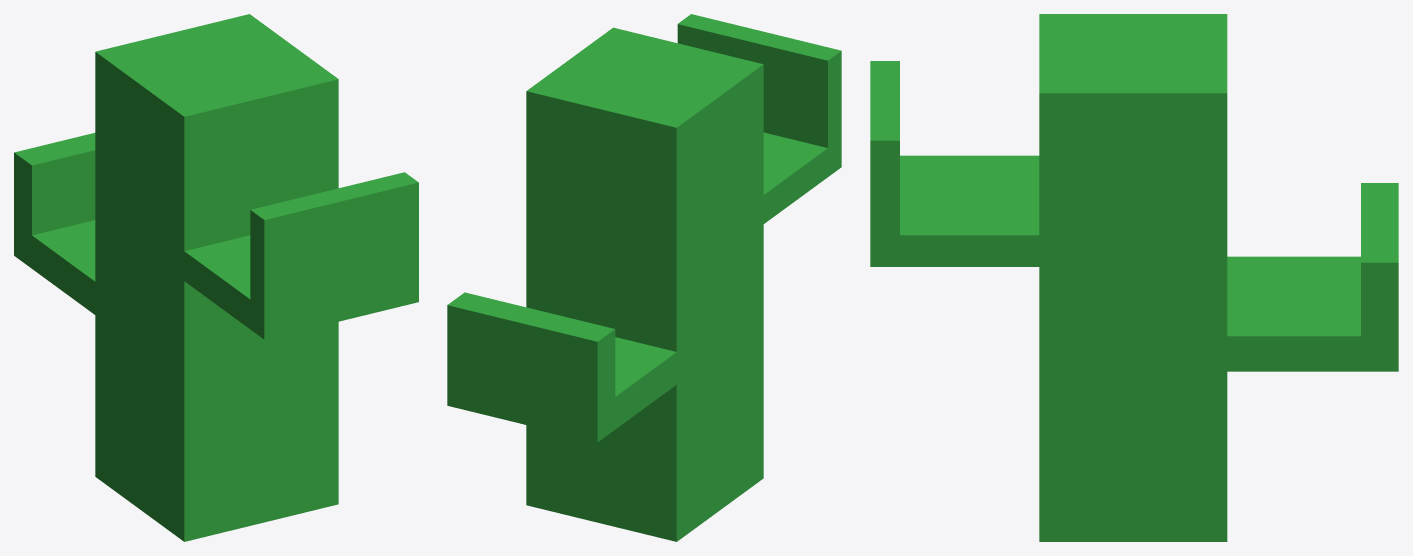
The model's file is cactusCOLORasset.fbx.
The picture shows the model from 3 angles, left to right: view 1: azimuth 30°, elevation 25°; view 2: azimuth 150°, elevation 25°; view 3: azimuth 270°, elevation 25°; orthographic projection. The views are drawn at different scales.
Visible parts, largest first — view 1: Cube; view 2: Cube; view 3: Cube.
Boxes of the visible parts, bbox=[...] form: Cube: bbox=[14, 14, 418, 541]; Cube: bbox=[447, 14, 841, 541]; Cube: bbox=[870, 14, 1398, 541].
Bounding box in the file's own units: 200 × 526 × 562.
